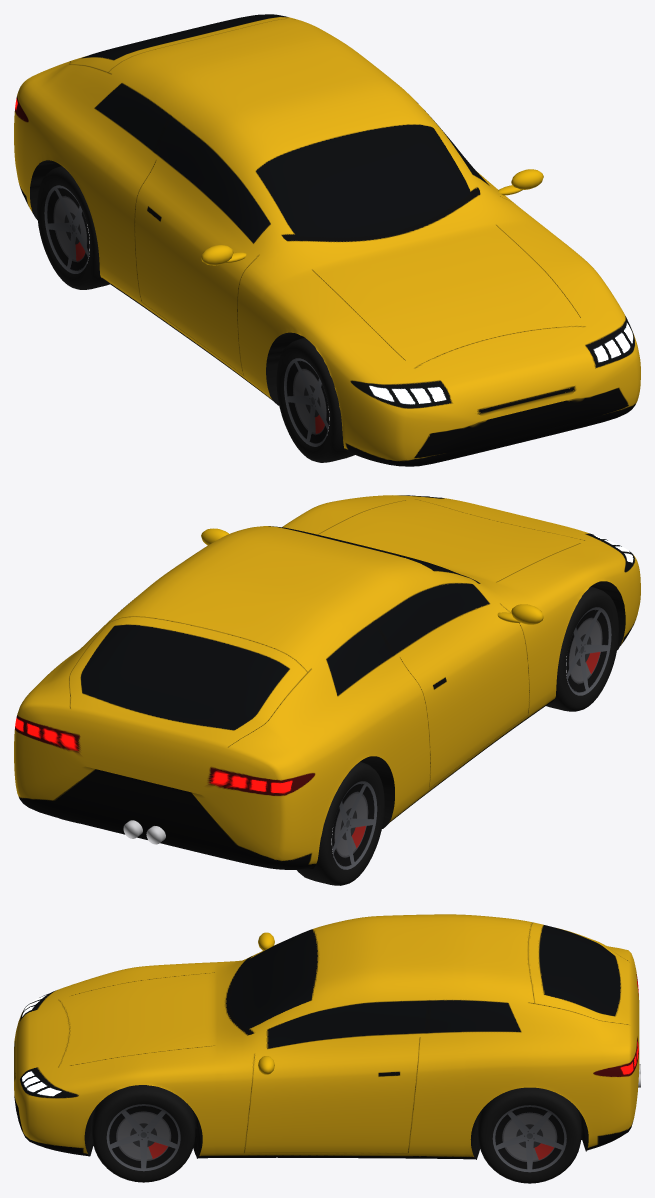
Rendered from compact_coupe.glb.
The picture shows the model from 3 angles, top to bottom: view 1: azimuth 30°, elevation 25°; view 2: azimuth 150°, elevation 25°; view 3: azimuth 270°, elevation 25°; orthographic projection. The views are drawn at different scales.
Parts seen in each view (by area): view 1: Body, Wheel_FR, Wheel_RR; view 2: Body, Wheel_RR, Wheel_FR; view 3: Body, Wheel_FL, Wheel_RL.
Part boxes in pixels (left/top/right/bottom): Body: left=14, top=14, right=640, bottom=466; Wheel_FR: left=276, top=337, right=354, bottom=462; Wheel_RR: left=37, top=166, right=109, bottom=289; Body: left=14, top=495, right=640, bottom=869; Wheel_RR: left=297, top=761, right=384, bottom=885; Wheel_FR: left=546, top=586, right=618, bottom=711; Body: left=14, top=914, right=640, bottom=1159; Wheel_FL: left=92, top=1085, right=195, bottom=1182; Wheel_RL: left=478, top=1087, right=581, bottom=1183.
Bounding box in the file's own units: 2.08 × 1.32 × 4.06.
Materials: 6 (2 with a texture image).
